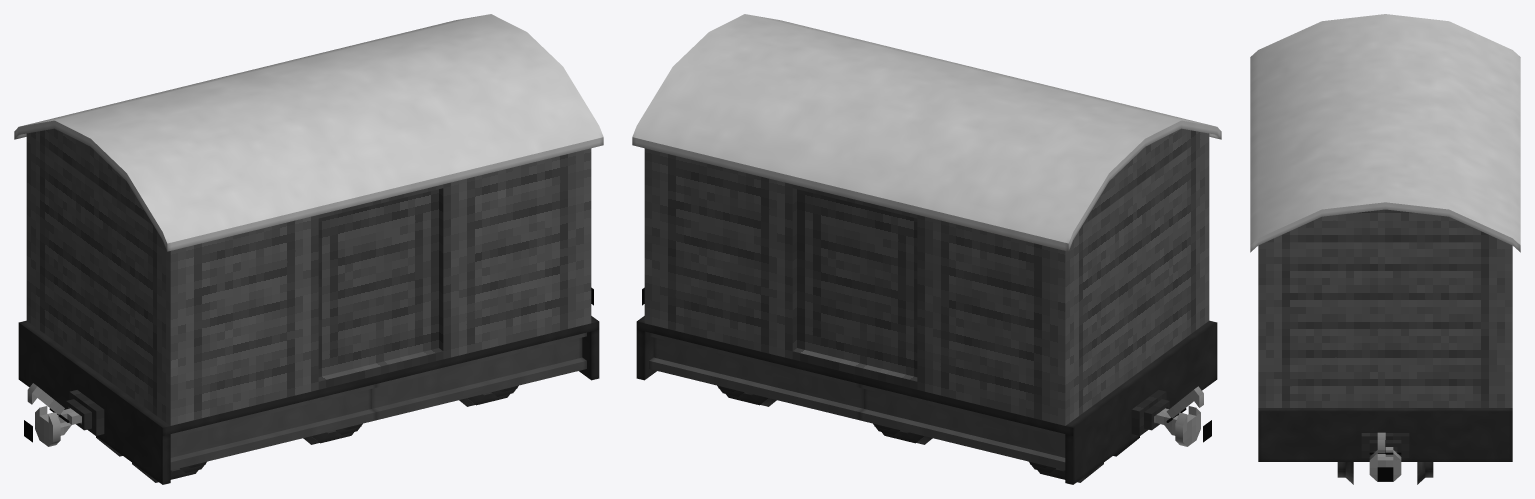
Rendered from van_general.obj.
3 views of the same model, side by side, from view 1: azimuth 30°, elevation 25°; view 2: azimuth 150°, elevation 25°; view 3: azimuth 270°, elevation 25° (orthographic). The views are drawn at different scales.
Parts seen in each view (by area): view 1: SHELL_WOOD, SHELL_WOOD.001, FRAME, DOOR_1, COUPLER_ENGAGED_FRONT_1_TOGGLE_LABEL_Uncouple; view 2: SHELL_WOOD, SHELL_WOOD.001, FRAME, DOOR_2, COUPLER_ENGAGED_FRONT_1_TOGGLE_LABEL_Uncouple; view 3: SHELL_WOOD.001, SHELL_WOOD, FRAME, COUPLER_ENGAGED_REAR_2_TOGGLE_LABEL_Uncouple, FRAME_WHEEL_3.
Boxes of the visible parts, bbox=[...] form: SHELL_WOOD: bbox=[26, 128, 591, 425]; SHELL_WOOD.001: bbox=[14, 14, 603, 251]; FRAME: bbox=[18, 316, 599, 484]; DOOR_1: bbox=[318, 189, 438, 376]; COUPLER_ENGAGED_FRONT_1_TOGGLE_LABEL_Uncouple: bbox=[24, 390, 104, 446]; SHELL_WOOD: bbox=[644, 128, 1209, 425]; SHELL_WOOD.001: bbox=[632, 14, 1221, 251]; FRAME: bbox=[636, 316, 1217, 484]; DOOR_2: bbox=[797, 189, 917, 376]; COUPLER_ENGAGED_FRONT_1_TOGGLE_LABEL_Uncouple: bbox=[1131, 390, 1211, 446]; SHELL_WOOD.001: bbox=[1250, 14, 1520, 252]; SHELL_WOOD: bbox=[1258, 209, 1512, 407]; FRAME: bbox=[1258, 408, 1512, 461]; COUPLER_ENGAGED_REAR_2_TOGGLE_LABEL_Uncouple: bbox=[1361, 433, 1409, 481]; FRAME_WHEEL_3: bbox=[1337, 462, 1433, 484].
Size of the model in its own units: 4.5 by 2.62 by 2.12.
Materials: 3 (3 with a texture image).
